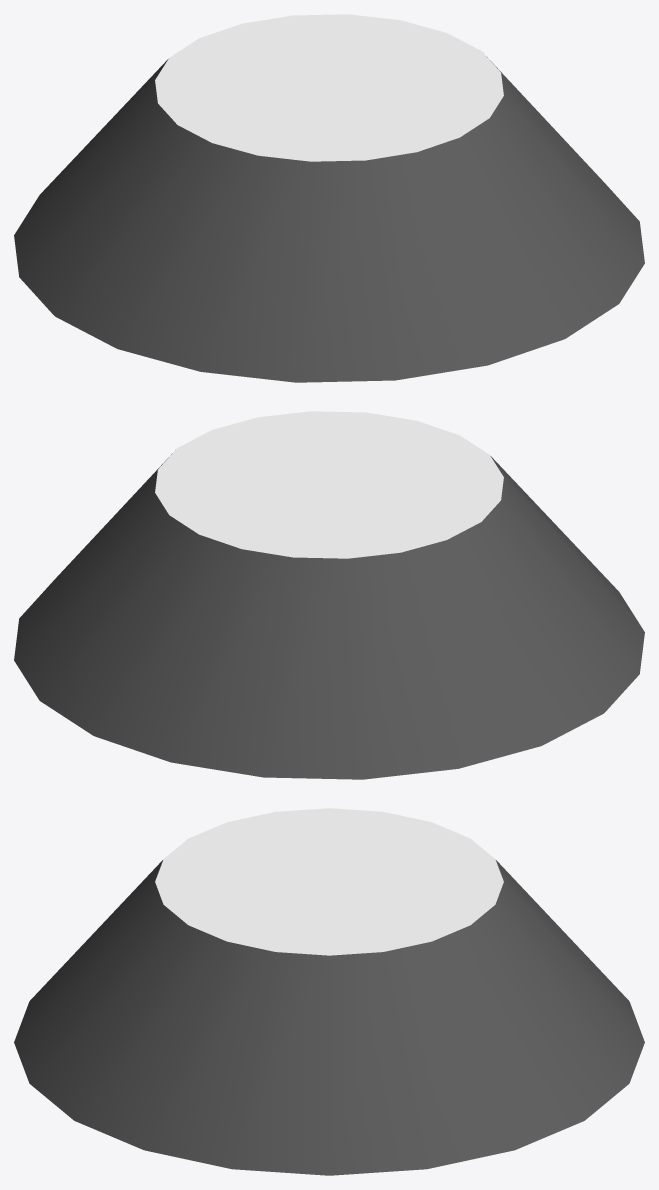
The model's file is Orellian_TV_01.fbx.
3 renders of one model, top to bottom at view 1: azimuth 30°, elevation 25°; view 2: azimuth 150°, elevation 25°; view 3: azimuth 270°, elevation 25°, orthographic.
Visible parts, largest first — view 1: Orellian_TV_01; view 2: Orellian_TV_01; view 3: Orellian_TV_01.
Part boxes in pixels (bbox=[...]): Orellian_TV_01: bbox=[14, 14, 644, 382]; Orellian_TV_01: bbox=[14, 411, 644, 779]; Orellian_TV_01: bbox=[14, 808, 644, 1175].
Bounding box in the file's own units: 0.8645 × 0.2427 × 0.8645.
